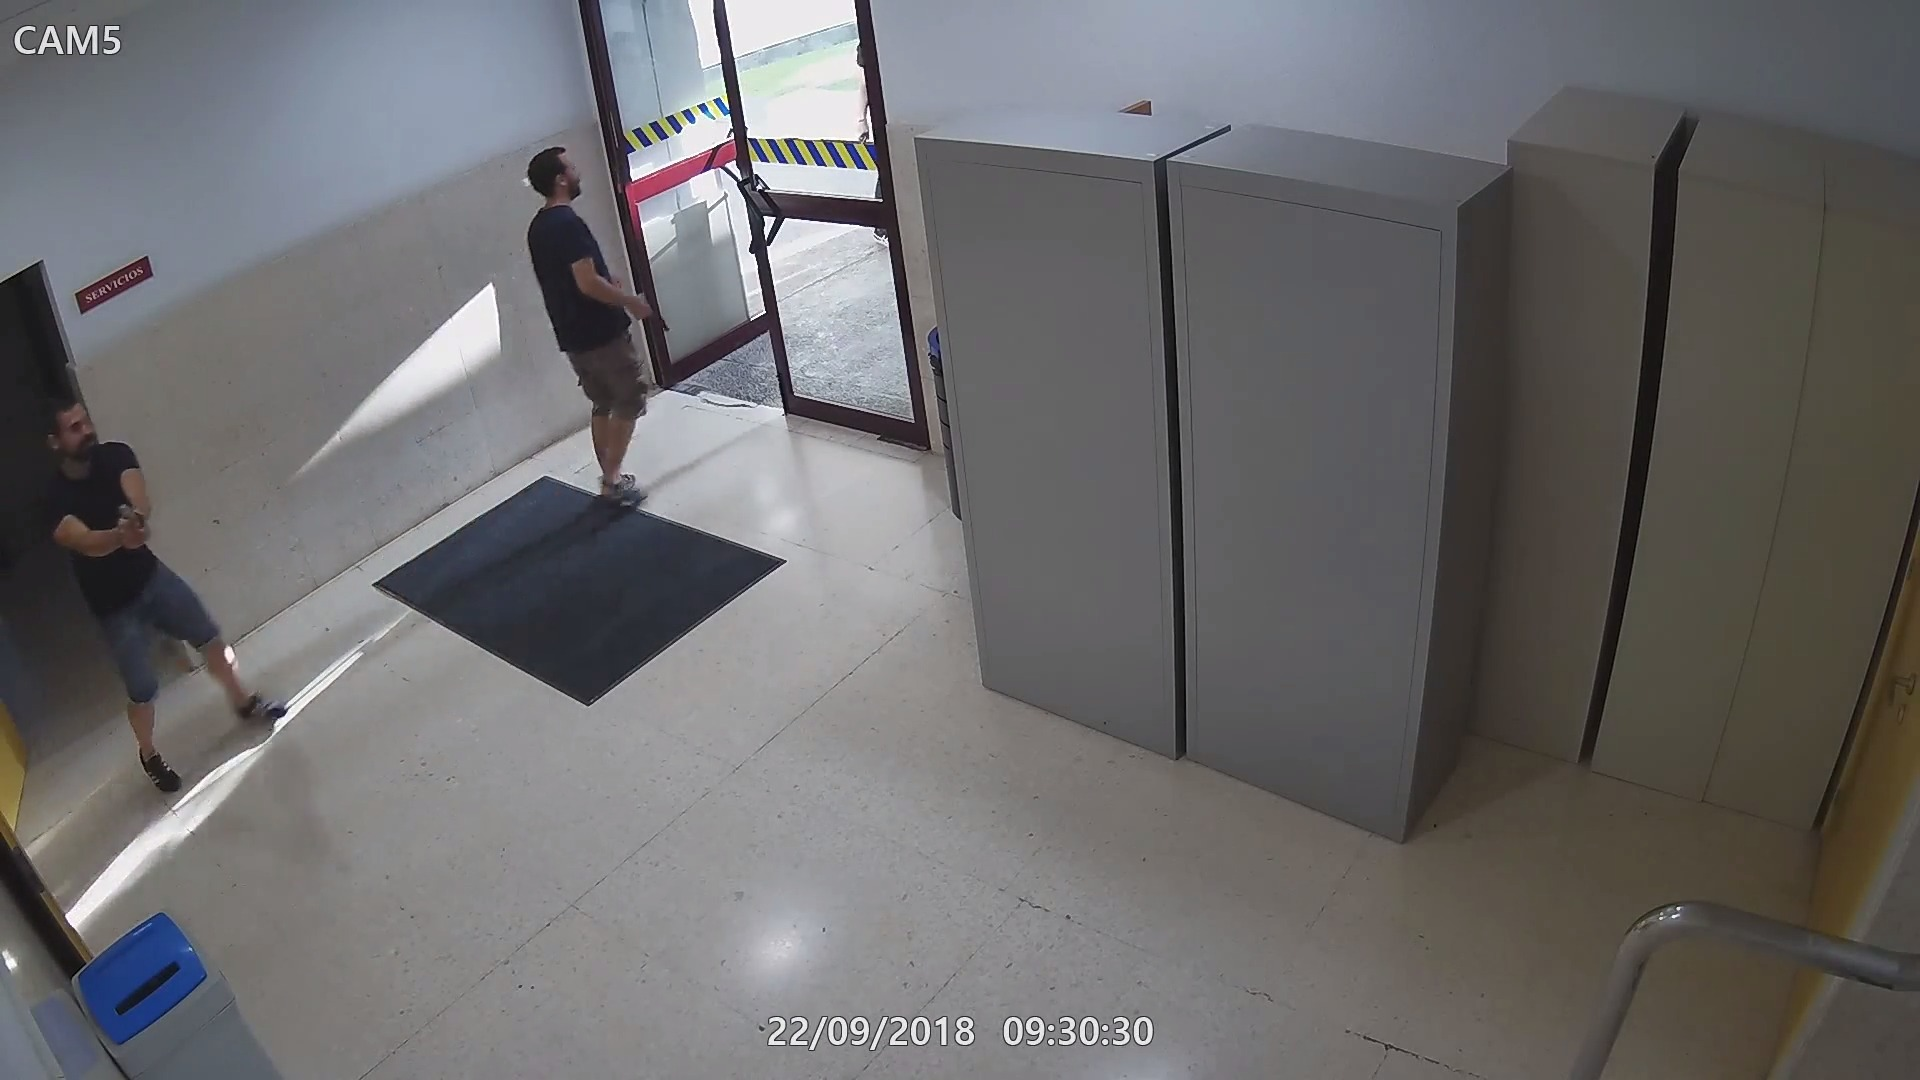Handgun: (626, 287, 670, 334), (116, 502, 150, 551)
